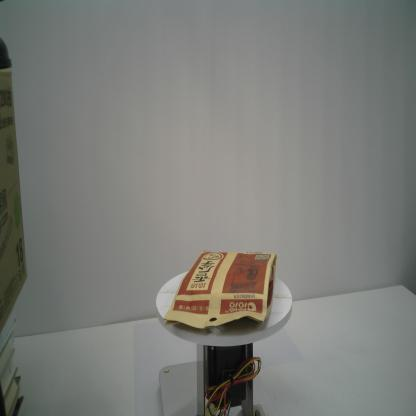Dried Food: (162, 247, 278, 332)
